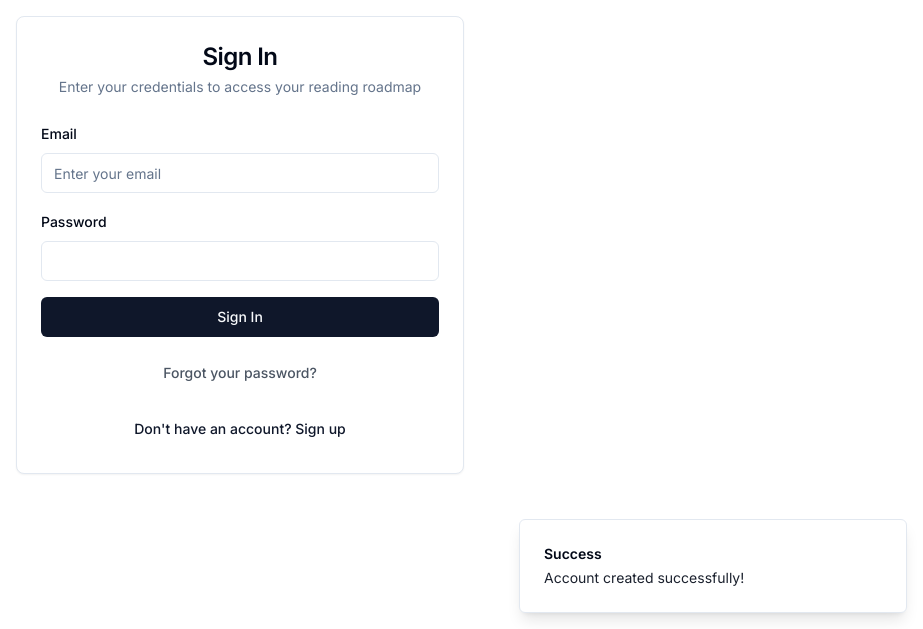
Scenario: Complete Authentication Flow › Registration Flow › should handle registration validation errors
Click the button "Don't have an account? Sign up": (240, 429) [118,409,362,449]
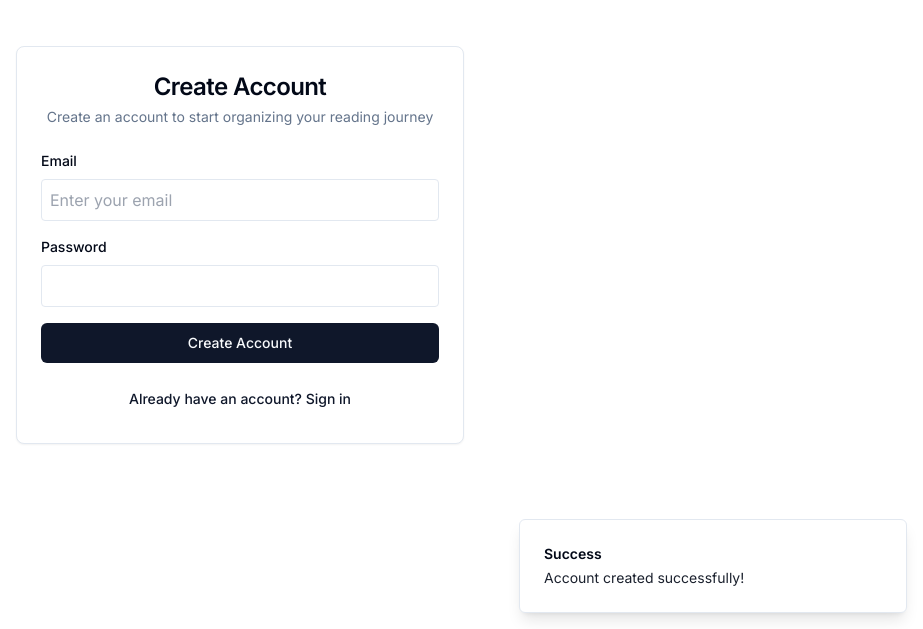
Click the button "Create Account": (240, 343) [41,323,439,363]
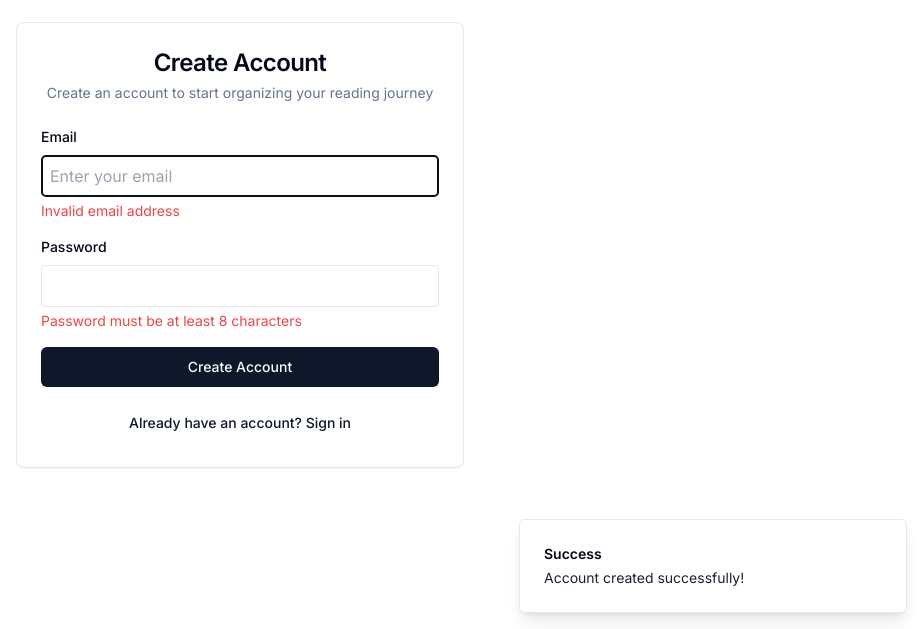
Check: the text "Invalid email address" is shown, box [41,202,180,219]
Check: the text "Password must be at least 8 characters" is shown, box [41,312,302,329]
